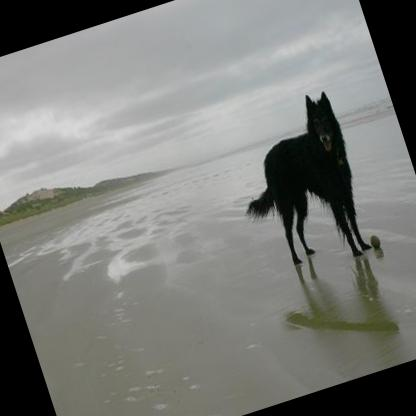groenendael: (212, 78, 388, 286)
